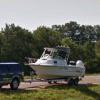Boat: (24, 45, 86, 84)
